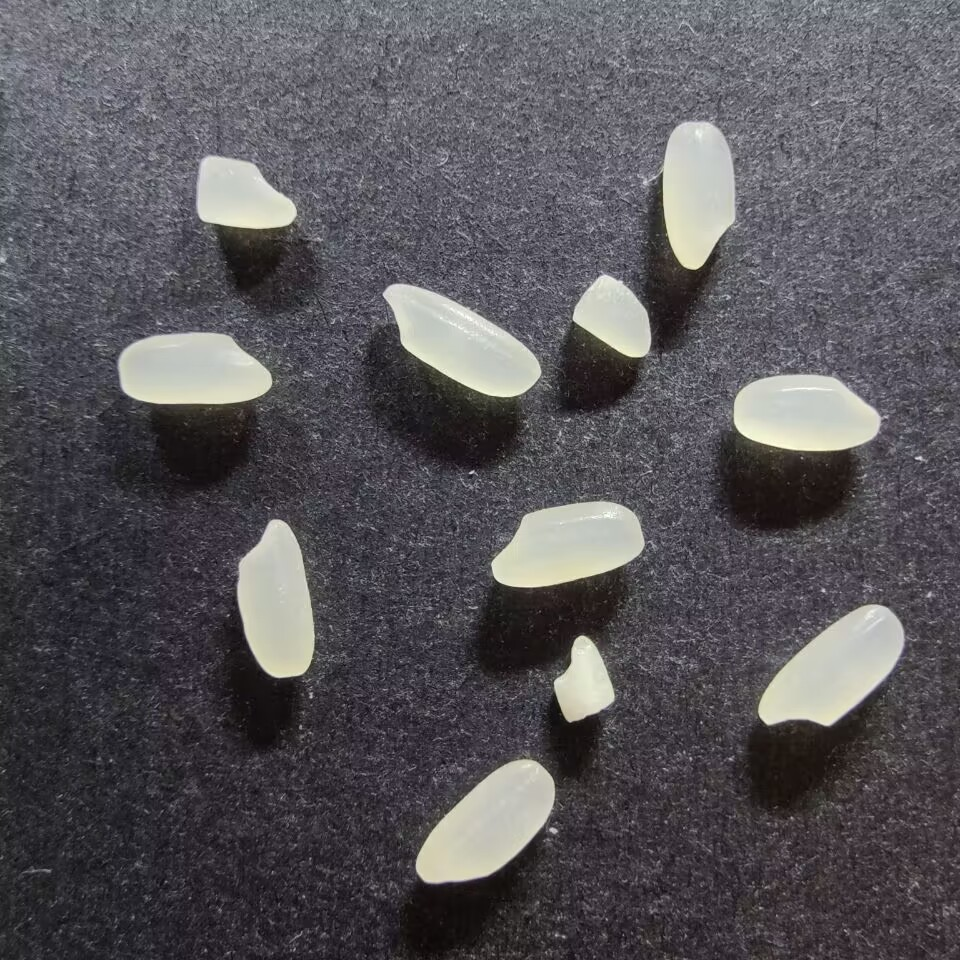broken: (194, 151, 300, 231), (570, 271, 655, 359), (551, 633, 618, 724)
rice: (380, 281, 543, 399), (754, 604, 908, 728), (411, 756, 558, 885), (487, 499, 645, 589), (232, 517, 316, 679), (731, 372, 883, 453), (115, 330, 273, 406), (660, 119, 738, 270)
